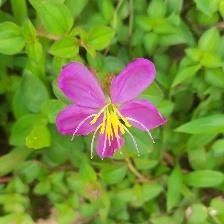malabar melastome: (54, 55, 168, 166)
